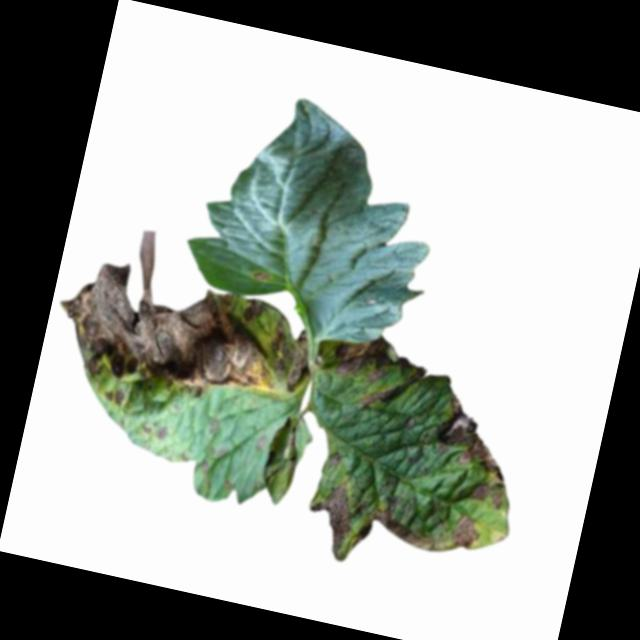Early_blight: (45, 218, 326, 421), (419, 388, 527, 510), (306, 478, 361, 557), (329, 327, 399, 388), (357, 506, 442, 556), (449, 512, 484, 554), (355, 385, 395, 416), (101, 385, 128, 409), (152, 424, 170, 443), (252, 270, 269, 285)
